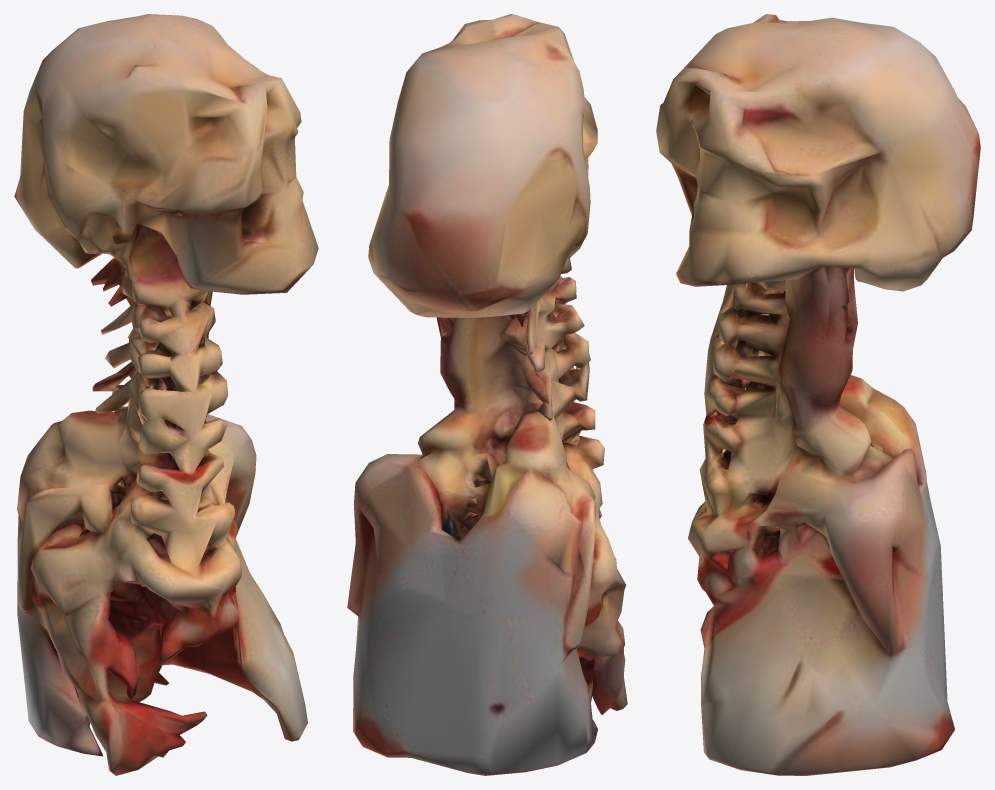
The model's file is spine.glb.
The picture shows the model from 3 angles, left to right: view 1: azimuth 30°, elevation 25°; view 2: azimuth 150°, elevation 25°; view 3: azimuth 270°, elevation 25°; orthographic projection. The views are drawn at different scales.
Visible parts, largest first — view 1: Mesh_0; view 2: Mesh_0; view 3: Mesh_0.
Boxes of the visible parts, x1=… form: Mesh_0: x1=14, y1=14, x2=318, y2=775; Mesh_0: x1=347, y1=14, x2=627, y2=775; Mesh_0: x1=656, y1=14, x2=980, y2=775.
Size of the model in its own units: 0.7486 by 2 by 0.8545.
1 material, 1 textured.
